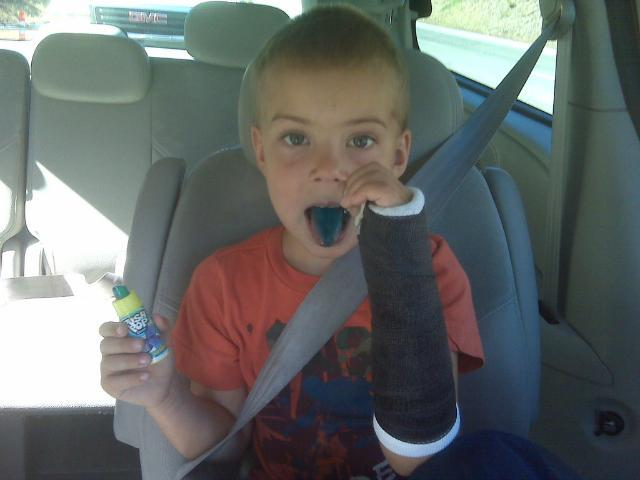SafeDriving: (270, 118, 320, 156), (336, 120, 385, 153)
Seatbelt: (175, 14, 561, 480)
